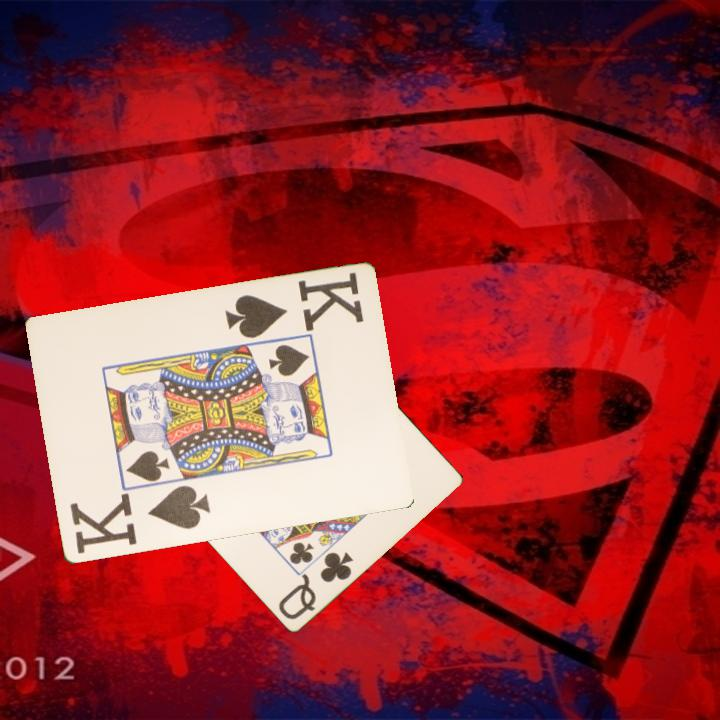Ks: (66, 482, 213, 557), (221, 269, 367, 342)
Qc: (275, 548, 357, 622)
